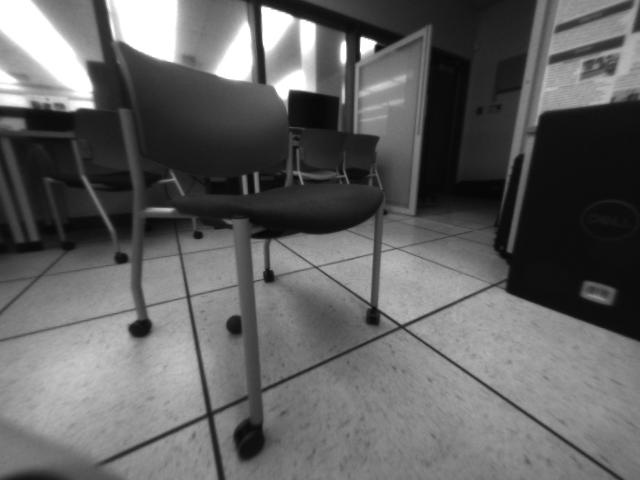dogtoy: (220, 309, 246, 341)
